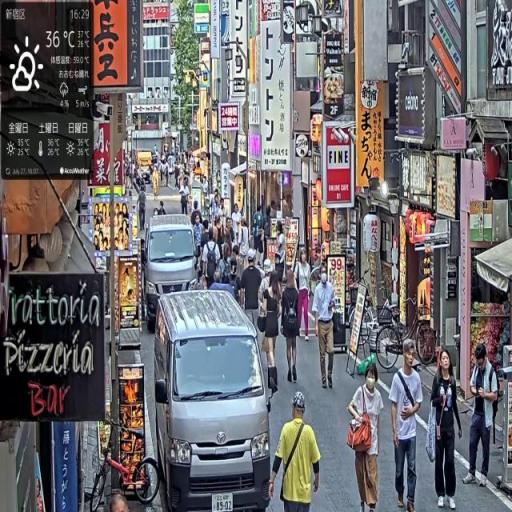person: (270, 392, 322, 512), (390, 341, 423, 512), (349, 363, 385, 512), (464, 345, 499, 488), (432, 351, 463, 511), (252, 251, 283, 368), (313, 271, 335, 389), (235, 248, 263, 328), (282, 272, 300, 383), (296, 249, 313, 342), (203, 229, 221, 290), (240, 219, 259, 264), (252, 206, 266, 266), (230, 258, 244, 307), (211, 272, 236, 299), (276, 223, 287, 280), (220, 245, 233, 284), (232, 204, 243, 247), (194, 215, 205, 256), (180, 179, 191, 216), (193, 201, 204, 226), (159, 202, 168, 216)
